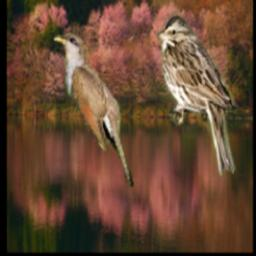Cuckoo: (53, 33, 134, 188)
Sparrow: (156, 13, 238, 180)
